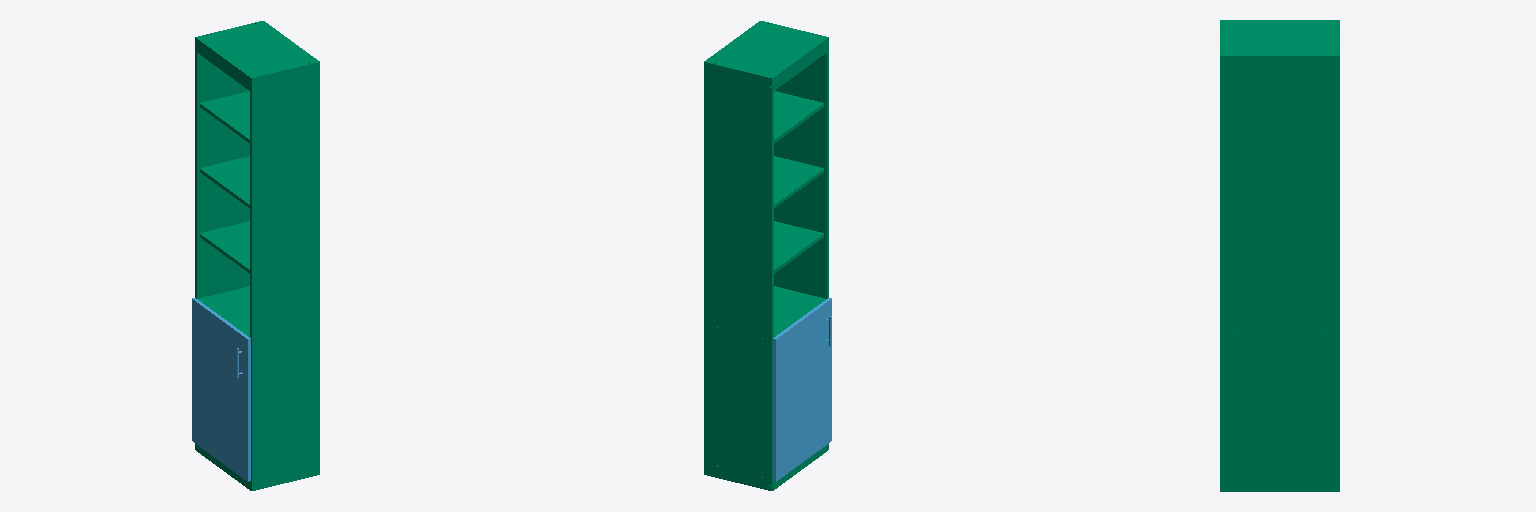
--- What the picture shows (computed from the rendered views, not written in the file) ---
The picture shows the robot from 3 angles, left to right: view 1: azimuth 30°, elevation 25°; view 2: azimuth 150°, elevation 25°; view 3: azimuth 270°, elevation 25°; orthographic projection.
Model partnet_d4f4b5bf712a96b13679ccb6aaef8b00 with 3 links and 2 joints (1 revolute, 1 fixed), rooted at base, posed all joints at 0.
Links seen in each view (by area): view 1: link_1, link_0; view 2: link_1, link_0; view 3: link_1.
Boxes of the visible links, box(x1,y1,x2,y2) form: link_1: box(195, 21, 319, 490); link_0: box(192, 298, 250, 481); link_1: box(704, 21, 828, 490); link_0: box(773, 298, 831, 481); link_1: box(1220, 20, 1339, 491).
Size in the robot's own frame: 0.3732 by 0.4727 by 1.91 metres.
Meshes: 94 distinct files referenced, 94 mesh visuals loaded (94 OBJ).

The robot description file, URDF, robot "partnet_d4f4b5bf712a96b13679ccb6aaef8b00":
<?xml version="1.0" ?>
<robot name="partnet_d4f4b5bf712a96b13679ccb6aaef8b00">
	<link name="base"/>
	<link name="link_0">
		<visual name="cabinet_door_surface-7">
			<origin xyz="0.2296398290724745 0.23239700496196747 -0.18658026515364542"/>
			<geometry>
				<mesh filename="textured_objs/original-489.obj"/>
			</geometry>
		</visual>
		<visual name="handle-8">
			<origin xyz="0.2296398290724745 0.23239700496196747 -0.18658026515364542"/>
			<geometry>
				<mesh filename="textured_objs/original-488.obj"/>
			</geometry>
		</visual>
		<collision>
			<origin xyz="0.2296398290724745 0.23239700496196747 -0.18658026515364542"/>
			<geometry>
				<mesh filename="textured_objs/original-489.obj"/>
			</geometry>
		</collision>
		<collision>
			<origin xyz="0.2296398290724745 0.23239700496196747 -0.18658026515364542"/>
			<geometry>
				<mesh filename="textured_objs/original-488.obj"/>
			</geometry>
		</collision>
	</link>
	<joint name="joint_0" type="revolute">
		<origin xyz="-0.2296398290724745 -0.23239700496196747 0.18658026515364542"/>
		<axis xyz="0 -1 0"/>
		<child link="link_0"/>
		<parent link="link_1"/>
		<limit lower="-0.0" upper="3.141592653589793"/>
	</joint>
	<link name="link_1">
		<visual name="shelf-10">
			<origin xyz="0 0 0"/>
			<geometry>
				<mesh filename="textured_objs/original-490.obj"/>
			</geometry>
		</visual>
		<visual name="shelf-11">
			<origin xyz="0 0 0"/>
			<geometry>
				<mesh filename="textured_objs/original-491.obj"/>
			</geometry>
		</visual>
		<visual name="shelf-12">
			<origin xyz="0 0 0"/>
			<geometry>
				<mesh filename="textured_objs/original-492.obj"/>
			</geometry>
		</visual>
		<visual name="shelf-13">
			<origin xyz="0 0 0"/>
			<geometry>
				<mesh filename="textured_objs/original-486.obj"/>
			</geometry>
		</visual>
		<visual name="shelf-14">
			<origin xyz="0 0 0"/>
			<geometry>
				<mesh filename="textured_objs/original-493.obj"/>
			</geometry>
		</visual>
		<visual name="vertical_side_panel-15">
			<origin xyz="0 0 0"/>
			<geometry>
				<mesh filename="textured_objs/original-462.obj"/>
			</geometry>
		</visual>
		<visual name="vertical_side_panel-16">
			<origin xyz="0 0 0"/>
			<geometry>
				<mesh filename="textured_objs/original-231.obj"/>
			</geometry>
		</visual>
		<visual name="back_panel-17">
			<origin xyz="0 0 0"/>
			<geometry>
				<mesh filename="textured_objs/original-503.obj"/>
			</geometry>
		</visual>
		<visual name="bottom_panel-18">
			<origin xyz="0 0 0"/>
			<geometry>
				<mesh filename="textured_objs/original-478.obj"/>
			</geometry>
		</visual>
		<visual name="top_panel-19">
			<origin xyz="0 0 0"/>
			<geometry>
				<mesh filename="textured_objs/original-470.obj"/>
			</geometry>
		</visual>
		<visual name="frame_horizontal_bar-20">
			<origin xyz="0 0 0"/>
			<geometry>
				<mesh filename="textured_objs/original-507.obj"/>
			</geometry>
		</visual>
		<visual name="frame_horizontal_bar-21">
			<origin xyz="0 0 0"/>
			<geometry>
				<mesh filename="textured_objs/original-511.obj"/>
			</geometry>
		</visual>
		<visual name="other_leaf-73">
			<origin xyz="0 0 0"/>
			<geometry>
				<mesh filename="textured_objs/original-261.obj"/>
			</geometry>
		</visual>
		<visual name="other_leaf-73">
			<origin xyz="0 0 0"/>
			<geometry>
				<mesh filename="textured_objs/original-286.obj"/>
			</geometry>
		</visual>
		<visual name="other_leaf-72">
			<origin xyz="0 0 0"/>
			<geometry>
				<mesh filename="textured_objs/original-345.obj"/>
			</geometry>
		</visual>
		<visual name="other_leaf-72">
			<origin xyz="0 0 0"/>
			<geometry>
				<mesh filename="textured_objs/original-397.obj"/>
			</geometry>
		</visual>
		<visual name="other_leaf-71">
			<origin xyz="0 0 0"/>
			<geometry>
				<mesh filename="textured_objs/original-290.obj"/>
			</geometry>
		</visual>
		<visual name="other_leaf-71">
			<origin xyz="0 0 0"/>
			<geometry>
				<mesh filename="textured_objs/original-342.obj"/>
			</geometry>
		</visual>
		<visual name="other_leaf-70">
			<origin xyz="0 0 0"/>
			<geometry>
				<mesh filename="textured_objs/original-316.obj"/>
			</geometry>
		</visual>
		<visual name="other_leaf-70">
			<origin xyz="0 0 0"/>
			<geometry>
				<mesh filename="textured_objs/original-341.obj"/>
			</geometry>
		</visual>
		<visual name="other_leaf-69">
			<origin xyz="0 0 0"/>
			<geometry>
				<mesh filename="textured_objs/original-456.obj"/>
			</geometry>
		</visual>
		<visual name="other_leaf-69">
			<origin xyz="0 0 0"/>
			<geometry>
				<mesh filename="textured_objs/original-501.obj"/>
			</geometry>
		</visual>
		<visual name="other_leaf-68">
			<origin xyz="0 0 0"/>
			<geometry>
				<mesh filename="textured_objs/original-371.obj"/>
			</geometry>
		</visual>
		<visual name="other_leaf-68">
			<origin xyz="0 0 0"/>
			<geometry>
				<mesh filename="textured_objs/original-396.obj"/>
			</geometry>
		</visual>
		<visual name="other_leaf-67">
			<origin xyz="0 0 0"/>
			<geometry>
				<mesh filename="textured_objs/original-497.obj"/>
			</geometry>
		</visual>
		<visual name="other_leaf-67">
			<origin xyz="0 0 0"/>
			<geometry>
				<mesh filename="textured_objs/original-483.obj"/>
			</geometry>
		</visual>
		<visual name="other_leaf-66">
			<origin xyz="0 0 0"/>
			<geometry>
				<mesh filename="textured_objs/original-482.obj"/>
			</geometry>
		</visual>
		<visual name="other_leaf-66">
			<origin xyz="0 0 0"/>
			<geometry>
				<mesh filename="textured_objs/original-498.obj"/>
			</geometry>
		</visual>
		<visual name="other_leaf-65">
			<origin xyz="0 0 0"/>
			<geometry>
				<mesh filename="textured_objs/original-229.obj"/>
			</geometry>
		</visual>
		<visual name="other_leaf-65">
			<origin xyz="0 0 0"/>
			<geometry>
				<mesh filename="textured_objs/original-481.obj"/>
			</geometry>
		</visual>
		<visual name="other_leaf-64">
			<origin xyz="0 0 0"/>
			<geometry>
				<mesh filename="textured_objs/original-460.obj"/>
			</geometry>
		</visual>
		<visual name="other_leaf-64">
			<origin xyz="0 0 0"/>
			<geometry>
				<mesh filename="textured_objs/original-485.obj"/>
			</geometry>
		</visual>
		<visual name="other_leaf-63">
			<origin xyz="0 0 0"/>
			<geometry>
				<mesh filename="textured_objs/original-461.obj"/>
			</geometry>
		</visual>
		<visual name="other_leaf-63">
			<origin xyz="0 0 0"/>
			<geometry>
				<mesh filename="textured_objs/original-484.obj"/>
			</geometry>
		</visual>
		<visual name="other_leaf-62">
			<origin xyz="0 0 0"/>
			<geometry>
				<mesh filename="textured_objs/original-451.obj"/>
			</geometry>
		</visual>
		<visual name="other_leaf-62">
			<origin xyz="0 0 0"/>
			<geometry>
				<mesh filename="textured_objs/original-426.obj"/>
			</geometry>
		</visual>
		<visual name="other_leaf-61">
			<origin xyz="0 0 0"/>
			<geometry>
				<mesh filename="textured_objs/original-452.obj"/>
			</geometry>
		</visual>
		<visual name="other_leaf-61">
			<origin xyz="0 0 0"/>
			<geometry>
				<mesh filename="textured_objs/original-400.obj"/>
			</geometry>
		</visual>
		<visual name="other_leaf-60">
			<origin xyz="0 0 0"/>
			<geometry>
				<mesh filename="textured_objs/original-230.obj"/>
			</geometry>
		</visual>
		<visual name="other_leaf-60">
			<origin xyz="0 0 0"/>
			<geometry>
				<mesh filename="textured_objs/original-480.obj"/>
			</geometry>
		</visual>
		<visual name="other_leaf-59">
			<origin xyz="0 0 0"/>
			<geometry>
				<mesh filename="textured_objs/original-169.obj"/>
			</geometry>
		</visual>
		<visual name="other_leaf-59">
			<origin xyz="0 0 0"/>
			<geometry>
				<mesh filename="textured_objs/original-221.obj"/>
			</geometry>
		</visual>
		<visual name="other_leaf-58">
			<origin xyz="0 0 0"/>
			<geometry>
				<mesh filename="textured_objs/original-195.obj"/>
			</geometry>
		</visual>
		<visual name="other_leaf-58">
			<origin xyz="0 0 0"/>
			<geometry>
				<mesh filename="textured_objs/original-220.obj"/>
			</geometry>
		</visual>
		<visual name="other_leaf-54">
			<origin xyz="0 0 0"/>
			<geometry>
				<mesh filename="textured_objs/original-500.obj"/>
			</geometry>
		</visual>
		<visual name="other_leaf-54">
			<origin xyz="0 0 0"/>
			<geometry>
				<mesh filename="textured_objs/original-474.obj"/>
			</geometry>
		</visual>
		<visual name="other_leaf-53">
			<origin xyz="0 0 0"/>
			<geometry>
				<mesh filename="textured_objs/original-499.obj"/>
			</geometry>
		</visual>
		<visual name="other_leaf-53">
			<origin xyz="0 0 0"/>
			<geometry>
				<mesh filename="textured_objs/original-475.obj"/>
			</geometry>
		</visual>
		<visual name="other_leaf-51">
			<origin xyz="0 0 0"/>
			<geometry>
				<mesh filename="textured_objs/original-224.obj"/>
			</geometry>
		</visual>
		<visual name="other_leaf-51">
			<origin xyz="0 0 0"/>
			<geometry>
				<mesh filename="textured_objs/original-505.obj"/>
			</geometry>
		</visual>
		<visual name="other_leaf-50">
			<origin xyz="0 0 0"/>
			<geometry>
				<mesh filename="textured_objs/original-228.obj"/>
			</geometry>
		</visual>
		<visual name="other_leaf-50">
			<origin xyz="0 0 0"/>
			<geometry>
				<mesh filename="textured_objs/original-472.obj"/>
			</geometry>
		</visual>
		<visual name="other_leaf-49">
			<origin xyz="0 0 0"/>
			<geometry>
				<mesh filename="textured_objs/original-227.obj"/>
			</geometry>
		</visual>
		<visual name="other_leaf-49">
			<origin xyz="0 0 0"/>
			<geometry>
				<mesh filename="textured_objs/original-473.obj"/>
			</geometry>
		</visual>
		<visual name="other_leaf-48">
			<origin xyz="0 0 0"/>
			<geometry>
				<mesh filename="textured_objs/original-457.obj"/>
			</geometry>
		</visual>
		<visual name="other_leaf-48">
			<origin xyz="0 0 0"/>
			<geometry>
				<mesh filename="textured_objs/original-506.obj"/>
			</geometry>
		</visual>
		<visual name="other_leaf-47">
			<origin xyz="0 0 0"/>
			<geometry>
				<mesh filename="textured_objs/original-459.obj"/>
			</geometry>
		</visual>
		<visual name="other_leaf-47">
			<origin xyz="0 0 0"/>
			<geometry>
				<mesh filename="textured_objs/original-477.obj"/>
			</geometry>
		</visual>
		<visual name="other_leaf-46">
			<origin xyz="0 0 0"/>
			<geometry>
				<mesh filename="textured_objs/original-458.obj"/>
			</geometry>
		</visual>
		<visual name="other_leaf-46">
			<origin xyz="0 0 0"/>
			<geometry>
				<mesh filename="textured_objs/original-476.obj"/>
			</geometry>
		</visual>
		<visual name="other_leaf-103">
			<origin xyz="0 0 0"/>
			<geometry>
				<mesh filename="textured_objs/original-469.obj"/>
			</geometry>
		</visual>
		<visual name="other_leaf-103">
			<origin xyz="0 0 0"/>
			<geometry>
				<mesh filename="textured_objs/original-222.obj"/>
			</geometry>
		</visual>
		<visual name="other_leaf-102">
			<origin xyz="0 0 0"/>
			<geometry>
				<mesh filename="textured_objs/original-226.obj"/>
			</geometry>
		</visual>
		<visual name="other_leaf-102">
			<origin xyz="0 0 0"/>
			<geometry>
				<mesh filename="textured_objs/original-509.obj"/>
			</geometry>
		</visual>
		<visual name="other_leaf-101">
			<origin xyz="0 0 0"/>
			<geometry>
				<mesh filename="textured_objs/original-114.obj"/>
			</geometry>
		</visual>
		<visual name="other_leaf-101">
			<origin xyz="0 0 0"/>
			<geometry>
				<mesh filename="textured_objs/original-166.obj"/>
			</geometry>
		</visual>
		<visual name="other_leaf-100">
			<origin xyz="0 0 0"/>
			<geometry>
				<mesh filename="textured_objs/original-140.obj"/>
			</geometry>
		</visual>
		<visual name="other_leaf-100">
			<origin xyz="0 0 0"/>
			<geometry>
				<mesh filename="textured_objs/original-165.obj"/>
			</geometry>
		</visual>
		<visual name="other_leaf-99">
			<origin xyz="0 0 0"/>
			<geometry>
				<mesh filename="textured_objs/original-110.obj"/>
			</geometry>
		</visual>
		<visual name="other_leaf-99">
			<origin xyz="0 0 0"/>
			<geometry>
				<mesh filename="textured_objs/original-85.obj"/>
			</geometry>
		</visual>
		<visual name="other_leaf-98">
			<origin xyz="0 0 0"/>
			<geometry>
				<mesh filename="textured_objs/original-59.obj"/>
			</geometry>
		</visual>
		<visual name="other_leaf-98">
			<origin xyz="0 0 0"/>
			<geometry>
				<mesh filename="textured_objs/original-111.obj"/>
			</geometry>
		</visual>
		<visual name="other_leaf-97">
			<origin xyz="0 0 0"/>
			<geometry>
				<mesh filename="textured_objs/original-4.obj"/>
			</geometry>
		</visual>
		<visual name="other_leaf-97">
			<origin xyz="0 0 0"/>
			<geometry>
				<mesh filename="textured_objs/original-56.obj"/>
			</geometry>
		</visual>
		<visual name="other_leaf-96">
			<origin xyz="0 0 0"/>
			<geometry>
				<mesh filename="textured_objs/original-225.obj"/>
			</geometry>
		</visual>
		<visual name="other_leaf-96">
			<origin xyz="0 0 0"/>
			<geometry>
				<mesh filename="textured_objs/original-502.obj"/>
			</geometry>
		</visual>
		<visual name="other_leaf-95">
			<origin xyz="0 0 0"/>
			<geometry>
				<mesh filename="textured_objs/original-467.obj"/>
			</geometry>
		</visual>
		<visual name="other_leaf-95">
			<origin xyz="0 0 0"/>
			<geometry>
				<mesh filename="textured_objs/original-495.obj"/>
			</geometry>
		</visual>
		<visual name="other_leaf-94">
			<origin xyz="0 0 0"/>
			<geometry>
				<mesh filename="textured_objs/original-468.obj"/>
			</geometry>
		</visual>
		<visual name="other_leaf-94">
			<origin xyz="0 0 0"/>
			<geometry>
				<mesh filename="textured_objs/original-223.obj"/>
			</geometry>
		</visual>
		<visual name="other_leaf-93">
			<origin xyz="0 0 0"/>
			<geometry>
				<mesh filename="textured_objs/original-466.obj"/>
			</geometry>
		</visual>
		<visual name="other_leaf-93">
			<origin xyz="0 0 0"/>
			<geometry>
				<mesh filename="textured_objs/original-496.obj"/>
			</geometry>
		</visual>
		<visual name="other_leaf-92">
			<origin xyz="0 0 0"/>
			<geometry>
				<mesh filename="textured_objs/original-465.obj"/>
			</geometry>
		</visual>
		<visual name="other_leaf-92">
			<origin xyz="0 0 0"/>
			<geometry>
				<mesh filename="textured_objs/original-453.obj"/>
			</geometry>
		</visual>
		<visual name="other_leaf-91">
			<origin xyz="0 0 0"/>
			<geometry>
				<mesh filename="textured_objs/original-235.obj"/>
			</geometry>
		</visual>
		<visual name="other_leaf-91">
			<origin xyz="0 0 0"/>
			<geometry>
				<mesh filename="textured_objs/original-287.obj"/>
			</geometry>
		</visual>
		<visual name="other_leaf-90">
			<origin xyz="0 0 0"/>
			<geometry>
				<mesh filename="textured_objs/original-464.obj"/>
			</geometry>
		</visual>
		<visual name="other_leaf-90">
			<origin xyz="0 0 0"/>
			<geometry>
				<mesh filename="textured_objs/original-454.obj"/>
			</geometry>
		</visual>
		<visual name="other_leaf-89">
			<origin xyz="0 0 0"/>
			<geometry>
				<mesh filename="textured_objs/original-455.obj"/>
			</geometry>
		</visual>
		<visual name="other_leaf-89">
			<origin xyz="0 0 0"/>
			<geometry>
				<mesh filename="textured_objs/original-510.obj"/>
			</geometry>
		</visual>
		<visual name="other_leaf-105">
			<origin xyz="0 0 0"/>
			<geometry>
				<mesh filename="textured_objs/original-30.obj"/>
			</geometry>
		</visual>
		<visual name="other_leaf-105">
			<origin xyz="0 0 0"/>
			<geometry>
				<mesh filename="textured_objs/original-55.obj"/>
			</geometry>
		</visual>
		<collision>
			<origin xyz="0 0 0"/>
			<geometry>
				<mesh filename="textured_objs/original-490.obj"/>
			</geometry>
		</collision>
		<collision>
			<origin xyz="0 0 0"/>
			<geometry>
				<mesh filename="textured_objs/original-491.obj"/>
			</geometry>
		</collision>
		<collision>
			<origin xyz="0 0 0"/>
			<geometry>
				<mesh filename="textured_objs/original-492.obj"/>
			</geometry>
		</collision>
		<collision>
			<origin xyz="0 0 0"/>
			<geometry>
				<mesh filename="textured_objs/original-486.obj"/>
			</geometry>
		</collision>
		<collision>
			<origin xyz="0 0 0"/>
			<geometry>
				<mesh filename="textured_objs/original-493.obj"/>
			</geometry>
		</collision>
		<collision>
			<origin xyz="0 0 0"/>
			<geometry>
				<mesh filename="textured_objs/original-462.obj"/>
			</geometry>
		</collision>
		<collision>
			<origin xyz="0 0 0"/>
			<geometry>
				<mesh filename="textured_objs/original-231.obj"/>
			</geometry>
		</collision>
		<collision>
			<origin xyz="0 0 0"/>
			<geometry>
				<mesh filename="textured_objs/original-503.obj"/>
			</geometry>
		</collision>
		<collision>
			<origin xyz="0 0 0"/>
			<geometry>
				<mesh filename="textured_objs/original-478.obj"/>
			</geometry>
		</collision>
		<collision>
			<origin xyz="0 0 0"/>
			<geometry>
				<mesh filename="textured_objs/original-470.obj"/>
			</geometry>
		</collision>
		<collision>
			<origin xyz="0 0 0"/>
			<geometry>
				<mesh filename="textured_objs/original-507.obj"/>
			</geometry>
		</collision>
		<collision>
			<origin xyz="0 0 0"/>
			<geometry>
				<mesh filename="textured_objs/original-511.obj"/>
			</geometry>
		</collision>
		<collision>
			<origin xyz="0 0 0"/>
			<geometry>
				<mesh filename="textured_objs/original-261.obj"/>
			</geometry>
		</collision>
		<collision>
			<origin xyz="0 0 0"/>
			<geometry>
				<mesh filename="textured_objs/original-286.obj"/>
			</geometry>
		</collision>
		<collision>
			<origin xyz="0 0 0"/>
			<geometry>
				<mesh filename="textured_objs/original-345.obj"/>
			</geometry>
		</collision>
		<collision>
			<origin xyz="0 0 0"/>
			<geometry>
				<mesh filename="textured_objs/original-397.obj"/>
			</geometry>
		</collision>
		<collision>
			<origin xyz="0 0 0"/>
			<geometry>
				<mesh filename="textured_objs/original-290.obj"/>
			</geometry>
		</collision>
		<collision>
			<origin xyz="0 0 0"/>
			<geometry>
				<mesh filename="textured_objs/original-342.obj"/>
			</geometry>
		</collision>
		<collision>
			<origin xyz="0 0 0"/>
			<geometry>
				<mesh filename="textured_objs/original-316.obj"/>
			</geometry>
		</collision>
		<collision>
			<origin xyz="0 0 0"/>
			<geometry>
				<mesh filename="textured_objs/original-341.obj"/>
			</geometry>
		</collision>
		<collision>
			<origin xyz="0 0 0"/>
			<geometry>
				<mesh filename="textured_objs/original-456.obj"/>
			</geometry>
		</collision>
		<collision>
			<origin xyz="0 0 0"/>
			<geometry>
				<mesh filename="textured_objs/original-501.obj"/>
			</geometry>
		</collision>
		<collision>
			<origin xyz="0 0 0"/>
			<geometry>
				<mesh filename="textured_objs/original-371.obj"/>
			</geometry>
		</collision>
		<collision>
			<origin xyz="0 0 0"/>
			<geometry>
				<mesh filename="textured_objs/original-396.obj"/>
			</geometry>
		</collision>
		<collision>
			<origin xyz="0 0 0"/>
			<geometry>
				<mesh filename="textured_objs/original-497.obj"/>
			</geometry>
		</collision>
		<collision>
			<origin xyz="0 0 0"/>
			<geometry>
				<mesh filename="textured_objs/original-483.obj"/>
			</geometry>
		</collision>
		<collision>
			<origin xyz="0 0 0"/>
			<geometry>
				<mesh filename="textured_objs/original-482.obj"/>
			</geometry>
		</collision>
		<collision>
			<origin xyz="0 0 0"/>
			<geometry>
				<mesh filename="textured_objs/original-498.obj"/>
			</geometry>
		</collision>
		<collision>
			<origin xyz="0 0 0"/>
			<geometry>
				<mesh filename="textured_objs/original-229.obj"/>
			</geometry>
		</collision>
		<collision>
			<origin xyz="0 0 0"/>
			<geometry>
				<mesh filename="textured_objs/original-481.obj"/>
			</geometry>
		</collision>
		<collision>
			<origin xyz="0 0 0"/>
			<geometry>
				<mesh filename="textured_objs/original-460.obj"/>
			</geometry>
		</collision>
		<collision>
			<origin xyz="0 0 0"/>
			<geometry>
				<mesh filename="textured_objs/original-485.obj"/>
			</geometry>
		</collision>
		<collision>
			<origin xyz="0 0 0"/>
			<geometry>
				<mesh filename="textured_objs/original-461.obj"/>
			</geometry>
		</collision>
		<collision>
			<origin xyz="0 0 0"/>
			<geometry>
				<mesh filename="textured_objs/original-484.obj"/>
			</geometry>
		</collision>
		<collision>
			<origin xyz="0 0 0"/>
			<geometry>
				<mesh filename="textured_objs/original-451.obj"/>
			</geometry>
		</collision>
		<collision>
			<origin xyz="0 0 0"/>
			<geometry>
				<mesh filename="textured_objs/original-426.obj"/>
			</geometry>
		</collision>
		<collision>
			<origin xyz="0 0 0"/>
			<geometry>
				<mesh filename="textured_objs/original-452.obj"/>
			</geometry>
		</collision>
		<collision>
			<origin xyz="0 0 0"/>
			<geometry>
				<mesh filename="textured_objs/original-400.obj"/>
			</geometry>
		</collision>
		<collision>
			<origin xyz="0 0 0"/>
			<geometry>
				<mesh filename="textured_objs/original-230.obj"/>
			</geometry>
		</collision>
		<collision>
			<origin xyz="0 0 0"/>
			<geometry>
				<mesh filename="textured_objs/original-480.obj"/>
			</geometry>
		</collision>
		<collision>
			<origin xyz="0 0 0"/>
			<geometry>
				<mesh filename="textured_objs/original-169.obj"/>
			</geometry>
		</collision>
		<collision>
			<origin xyz="0 0 0"/>
			<geometry>
				<mesh filename="textured_objs/original-221.obj"/>
			</geometry>
		</collision>
		<collision>
			<origin xyz="0 0 0"/>
			<geometry>
				<mesh filename="textured_objs/original-195.obj"/>
			</geometry>
		</collision>
		<collision>
			<origin xyz="0 0 0"/>
			<geometry>
				<mesh filename="textured_objs/original-220.obj"/>
			</geometry>
		</collision>
		<collision>
			<origin xyz="0 0 0"/>
			<geometry>
				<mesh filename="textured_objs/original-500.obj"/>
			</geometry>
		</collision>
		<collision>
			<origin xyz="0 0 0"/>
			<geometry>
				<mesh filename="textured_objs/original-474.obj"/>
			</geometry>
		</collision>
		<collision>
			<origin xyz="0 0 0"/>
			<geometry>
				<mesh filename="textured_objs/original-499.obj"/>
			</geometry>
		</collision>
		<collision>
			<origin xyz="0 0 0"/>
			<geometry>
				<mesh filename="textured_objs/original-475.obj"/>
			</geometry>
		</collision>
		<collision>
			<origin xyz="0 0 0"/>
			<geometry>
				<mesh filename="textured_objs/original-224.obj"/>
			</geometry>
		</collision>
		<collision>
			<origin xyz="0 0 0"/>
			<geometry>
				<mesh filename="textured_objs/original-505.obj"/>
			</geometry>
		</collision>
		<collision>
			<origin xyz="0 0 0"/>
			<geometry>
				<mesh filename="textured_objs/original-228.obj"/>
			</geometry>
		</collision>
		<collision>
			<origin xyz="0 0 0"/>
			<geometry>
				<mesh filename="textured_objs/original-472.obj"/>
			</geometry>
		</collision>
		<collision>
			<origin xyz="0 0 0"/>
			<geometry>
				<mesh filename="textured_objs/original-227.obj"/>
			</geometry>
		</collision>
		<collision>
			<origin xyz="0 0 0"/>
			<geometry>
				<mesh filename="textured_objs/original-473.obj"/>
			</geometry>
		</collision>
		<collision>
			<origin xyz="0 0 0"/>
			<geometry>
				<mesh filename="textured_objs/original-457.obj"/>
			</geometry>
		</collision>
		<collision>
			<origin xyz="0 0 0"/>
			<geometry>
				<mesh filename="textured_objs/original-506.obj"/>
			</geometry>
		</collision>
		<collision>
			<origin xyz="0 0 0"/>
			<geometry>
				<mesh filename="textured_objs/original-459.obj"/>
			</geometry>
		</collision>
		<collision>
			<origin xyz="0 0 0"/>
			<geometry>
				<mesh filename="textured_objs/original-477.obj"/>
			</geometry>
		</collision>
		<collision>
			<origin xyz="0 0 0"/>
			<geometry>
				<mesh filename="textured_objs/original-458.obj"/>
			</geometry>
		</collision>
		<collision>
			<origin xyz="0 0 0"/>
			<geometry>
				<mesh filename="textured_objs/original-476.obj"/>
			</geometry>
		</collision>
		<collision>
			<origin xyz="0 0 0"/>
			<geometry>
				<mesh filename="textured_objs/original-469.obj"/>
			</geometry>
		</collision>
		<collision>
			<origin xyz="0 0 0"/>
			<geometry>
				<mesh filename="textured_objs/original-222.obj"/>
			</geometry>
		</collision>
		<collision>
			<origin xyz="0 0 0"/>
			<geometry>
				<mesh filename="textured_objs/original-226.obj"/>
			</geometry>
		</collision>
		<collision>
			<origin xyz="0 0 0"/>
			<geometry>
				<mesh filename="textured_objs/original-509.obj"/>
			</geometry>
		</collision>
		<collision>
			<origin xyz="0 0 0"/>
			<geometry>
				<mesh filename="textured_objs/original-114.obj"/>
			</geometry>
		</collision>
		<collision>
			<origin xyz="0 0 0"/>
			<geometry>
				<mesh filename="textured_objs/original-166.obj"/>
			</geometry>
		</collision>
		<collision>
			<origin xyz="0 0 0"/>
			<geometry>
				<mesh filename="textured_objs/original-140.obj"/>
			</geometry>
		</collision>
		<collision>
			<origin xyz="0 0 0"/>
			<geometry>
				<mesh filename="textured_objs/original-165.obj"/>
			</geometry>
		</collision>
		<collision>
			<origin xyz="0 0 0"/>
			<geometry>
				<mesh filename="textured_objs/original-110.obj"/>
			</geometry>
		</collision>
		<collision>
			<origin xyz="0 0 0"/>
			<geometry>
				<mesh filename="textured_objs/original-85.obj"/>
			</geometry>
		</collision>
		<collision>
			<origin xyz="0 0 0"/>
			<geometry>
				<mesh filename="textured_objs/original-59.obj"/>
			</geometry>
		</collision>
		<collision>
			<origin xyz="0 0 0"/>
			<geometry>
				<mesh filename="textured_objs/original-111.obj"/>
			</geometry>
		</collision>
		<collision>
			<origin xyz="0 0 0"/>
			<geometry>
				<mesh filename="textured_objs/original-4.obj"/>
			</geometry>
		</collision>
		<collision>
			<origin xyz="0 0 0"/>
			<geometry>
				<mesh filename="textured_objs/original-56.obj"/>
			</geometry>
		</collision>
		<collision>
			<origin xyz="0 0 0"/>
			<geometry>
				<mesh filename="textured_objs/original-225.obj"/>
			</geometry>
		</collision>
		<collision>
			<origin xyz="0 0 0"/>
			<geometry>
				<mesh filename="textured_objs/original-502.obj"/>
			</geometry>
		</collision>
		<collision>
			<origin xyz="0 0 0"/>
			<geometry>
				<mesh filename="textured_objs/original-467.obj"/>
			</geometry>
		</collision>
		<collision>
			<origin xyz="0 0 0"/>
			<geometry>
				<mesh filename="textured_objs/original-495.obj"/>
			</geometry>
		</collision>
		<collision>
			<origin xyz="0 0 0"/>
			<geometry>
				<mesh filename="textured_objs/original-468.obj"/>
			</geometry>
		</collision>
		<collision>
			<origin xyz="0 0 0"/>
			<geometry>
				<mesh filename="textured_objs/original-223.obj"/>
			</geometry>
		</collision>
		<collision>
			<origin xyz="0 0 0"/>
			<geometry>
				<mesh filename="textured_objs/original-466.obj"/>
			</geometry>
		</collision>
		<collision>
			<origin xyz="0 0 0"/>
			<geometry>
				<mesh filename="textured_objs/original-496.obj"/>
			</geometry>
		</collision>
		<collision>
			<origin xyz="0 0 0"/>
			<geometry>
				<mesh filename="textured_objs/original-465.obj"/>
			</geometry>
		</collision>
		<collision>
			<origin xyz="0 0 0"/>
			<geometry>
				<mesh filename="textured_objs/original-453.obj"/>
			</geometry>
		</collision>
		<collision>
			<origin xyz="0 0 0"/>
			<geometry>
				<mesh filename="textured_objs/original-235.obj"/>
			</geometry>
		</collision>
		<collision>
			<origin xyz="0 0 0"/>
			<geometry>
				<mesh filename="textured_objs/original-287.obj"/>
			</geometry>
		</collision>
		<collision>
			<origin xyz="0 0 0"/>
			<geometry>
				<mesh filename="textured_objs/original-464.obj"/>
			</geometry>
		</collision>
		<collision>
			<origin xyz="0 0 0"/>
			<geometry>
				<mesh filename="textured_objs/original-454.obj"/>
			</geometry>
		</collision>
		<collision>
			<origin xyz="0 0 0"/>
			<geometry>
				<mesh filename="textured_objs/original-455.obj"/>
			</geometry>
		</collision>
		<collision>
			<origin xyz="0 0 0"/>
			<geometry>
				<mesh filename="textured_objs/original-510.obj"/>
			</geometry>
		</collision>
		<collision>
			<origin xyz="0 0 0"/>
			<geometry>
				<mesh filename="textured_objs/original-30.obj"/>
			</geometry>
		</collision>
		<collision>
			<origin xyz="0 0 0"/>
			<geometry>
				<mesh filename="textured_objs/original-55.obj"/>
			</geometry>
		</collision>
	</link>
	<joint name="joint_1" type="fixed">
		<origin rpy="1.570796326794897 0 -1.570796326794897" xyz="0 0 0"/>
		<child link="link_1"/>
		<parent link="base"/>
	</joint>
</robot>
